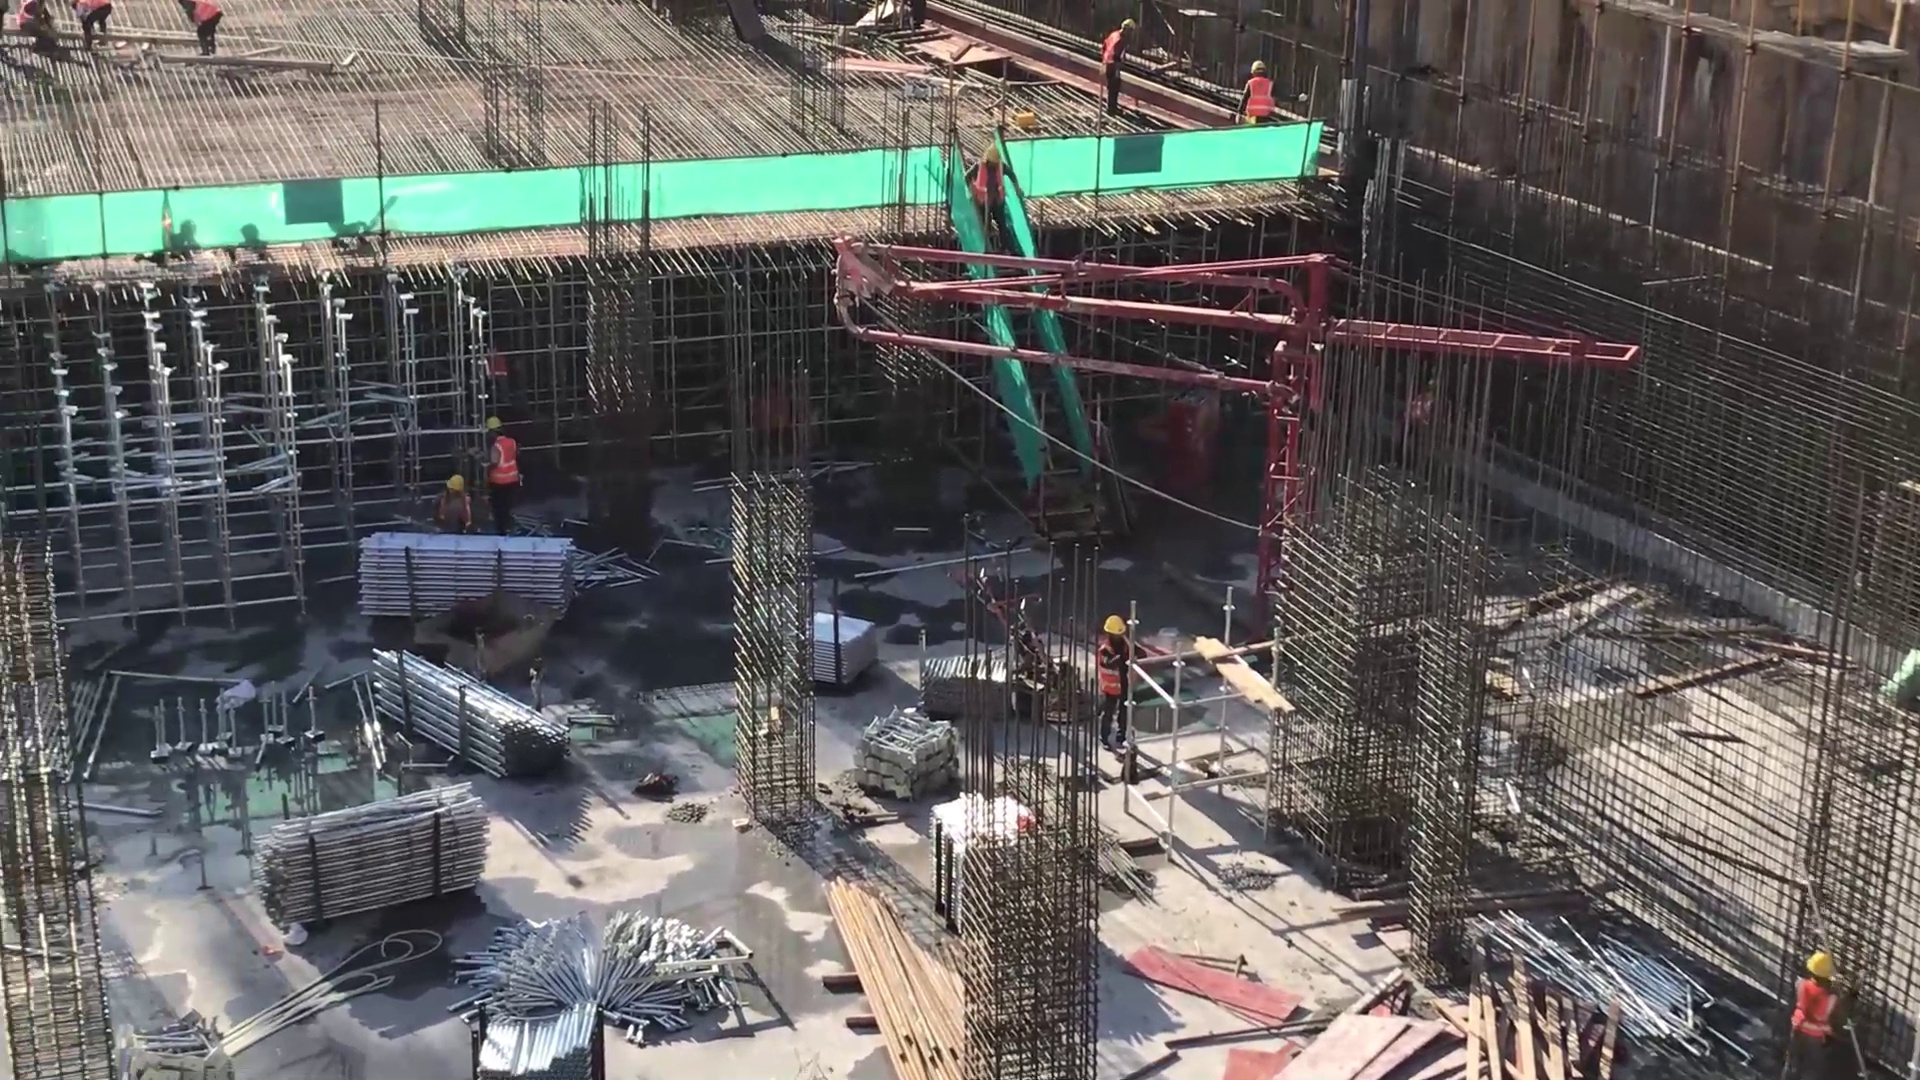board: (1283, 1008, 1437, 1080)
helmet: (1103, 617, 1131, 635), (981, 143, 1006, 155), (447, 472, 467, 488), (483, 415, 505, 426)
person: (1092, 610, 1144, 743), (1792, 945, 1842, 1080), (473, 407, 527, 526), (959, 131, 1017, 238), (1096, 14, 1139, 115), (429, 464, 479, 547), (1238, 54, 1281, 147), (176, 1, 229, 56), (21, 1, 62, 46), (71, 1, 113, 43)
scaffold: (254, 784, 488, 919), (371, 639, 573, 781), (350, 522, 588, 619), (458, 1004, 609, 1080), (806, 606, 877, 689), (924, 651, 965, 711)
wood: (833, 881, 950, 1080), (1471, 966, 1615, 1080)
